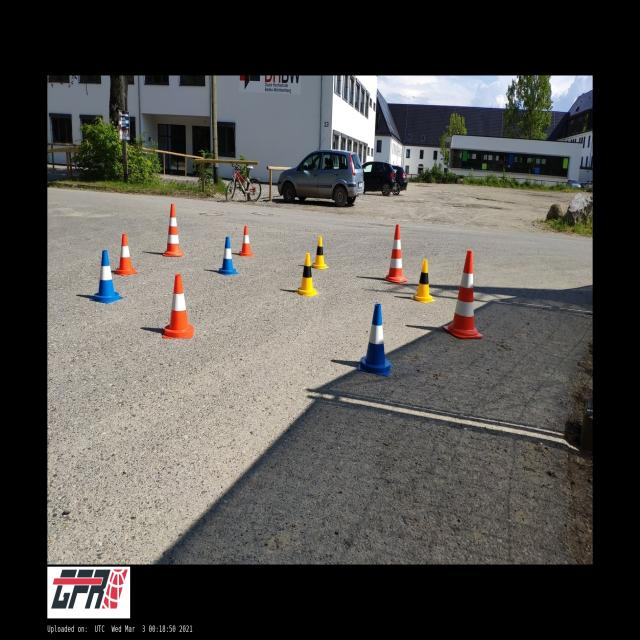blue_cone: (358, 304, 392, 376), (90, 250, 124, 304), (217, 237, 238, 276)
large_orange_cone: (444, 250, 482, 339), (384, 225, 407, 282), (163, 204, 184, 256)
orange_cone: (162, 275, 194, 338), (113, 233, 138, 276), (238, 226, 254, 255)
yellow_cone: (410, 260, 436, 302), (295, 253, 319, 296), (311, 237, 329, 269)
